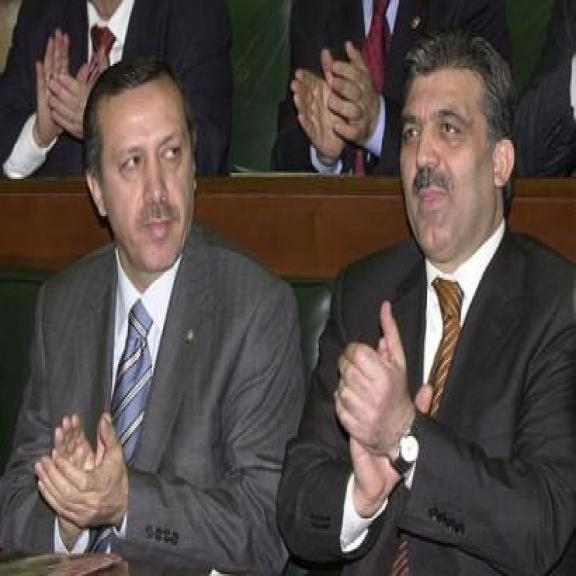face: (392, 64, 518, 267), (88, 94, 202, 274)
